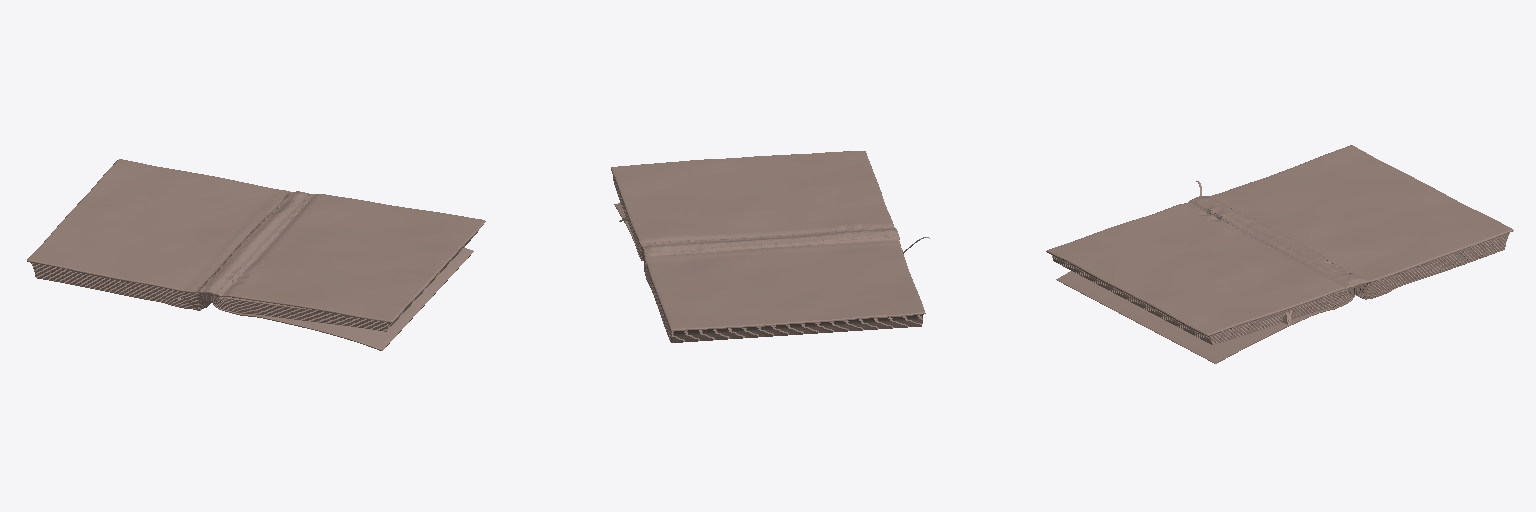
The model's file is caderno.obj.
The picture shows the model from 3 angles: view 1: azimuth 30°, elevation 25°; view 2: azimuth 150°, elevation 25°; view 3: azimuth 270°, elevation 25°; orthographic projection.
Parts seen in each view (by area): view 1: LODEX3D_VOL1_BOOKS_L3DV1B001_; view 2: LODEX3D_VOL1_BOOKS_L3DV1B001_; view 3: LODEX3D_VOL1_BOOKS_L3DV1B001_.
Boxes of the visible parts, x1,y1,x2,y2 form: LODEX3D_VOL1_BOOKS_L3DV1B001_: [27, 159, 485, 350]; LODEX3D_VOL1_BOOKS_L3DV1B001_: [611, 151, 929, 342]; LODEX3D_VOL1_BOOKS_L3DV1B001_: [1046, 145, 1513, 363].
Size of the model in its own units: 0.9438 by 0.0827 by 0.9883.